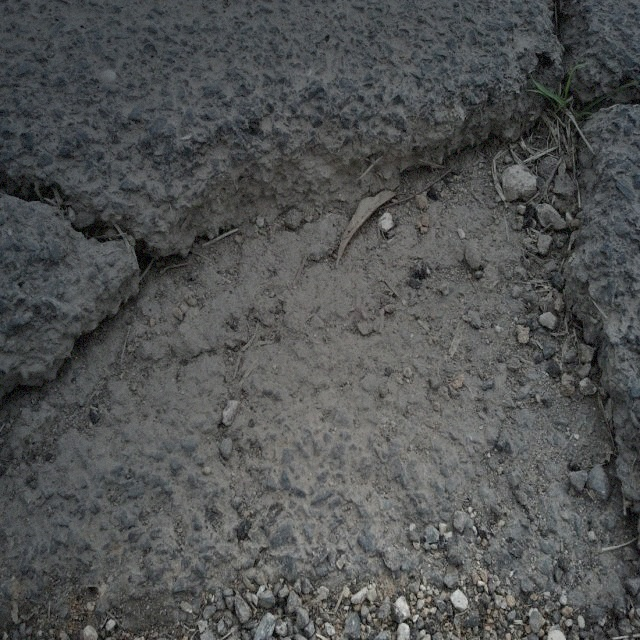pothole: (126, 59, 605, 407)
